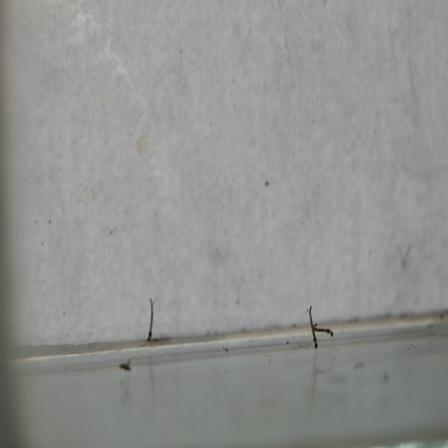Jentik-Nyamuk: (143, 296, 161, 345)
